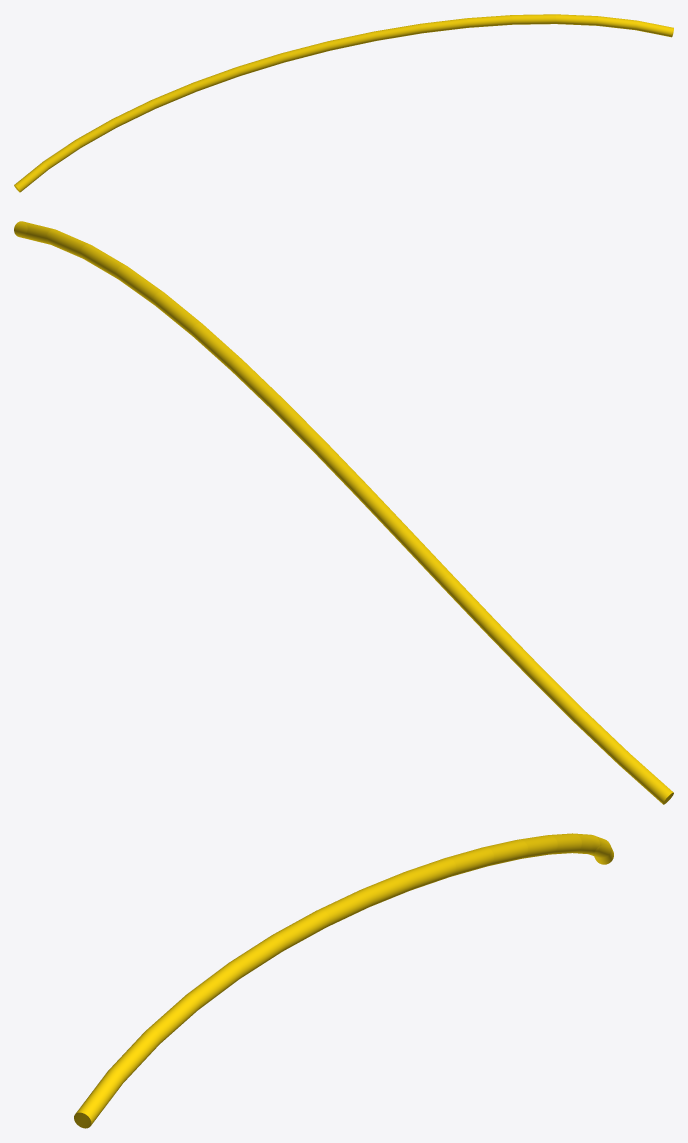
File: Event_421115418_track_143.fbx
3 views of the same model, one above another, from view 1: azimuth 30°, elevation 25°; view 2: azimuth 150°, elevation 25°; view 3: azimuth 270°, elevation 25° (orthographic). The views are drawn at different scales.
Parts seen in each view (by area): view 1: Model; view 2: Model; view 3: Model.
Part boxes in pixels (x1,y1,x2,y2): Model: (14, 14, 673, 192); Model: (14, 221, 673, 804); Model: (74, 833, 613, 1128).
Bounding box in the file's own units: 2.49 × 0.6606 × 1.1.
